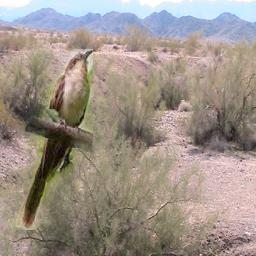Cuckoo: (15, 50, 93, 231)
